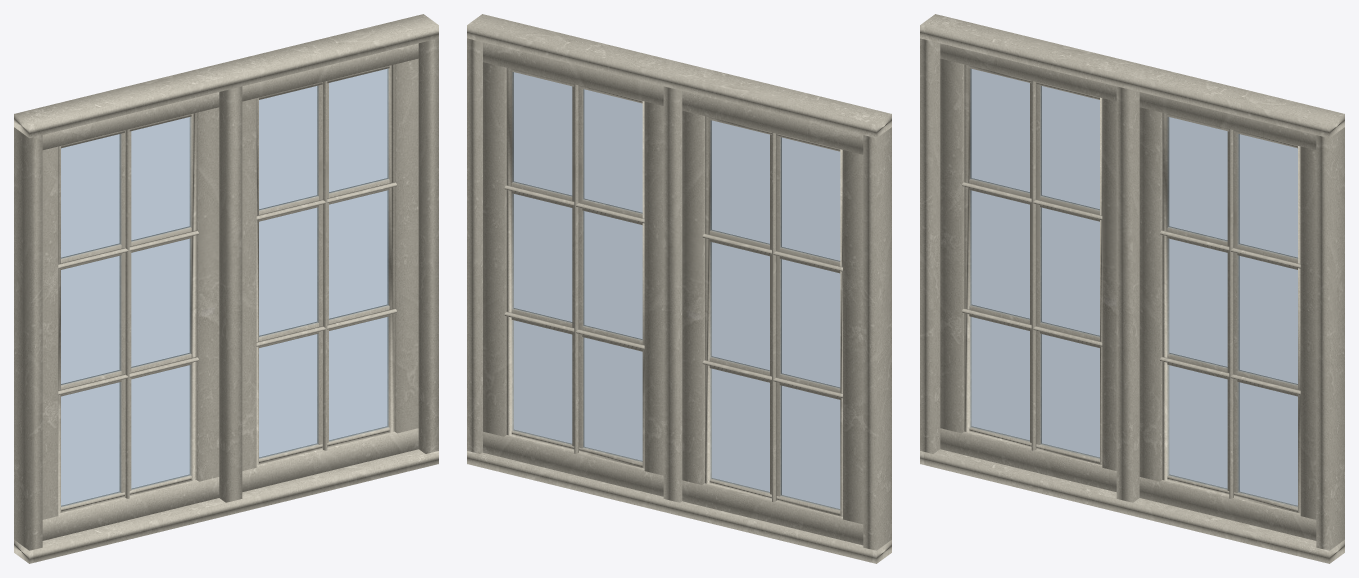
The model's file is 639a4afa-9eb4-4591-928b-d76af2555d5f.glb.
3 renders of one model, left to right at view 1: azimuth 30°, elevation 25°; view 2: azimuth 150°, elevation 25°; view 3: azimuth 330°, elevation 25°, orthographic.
Parts seen in each view (by area): view 1: AlabasterWindow; view 2: AlabasterWindow; view 3: AlabasterWindow.
Boxes of the visible parts, x1,y1,x2,y2 form: AlabasterWindow: (14,14,438,563); AlabasterWindow: (467,14,891,563); AlabasterWindow: (920,14,1344,563).
Size of what is drawn, in the model's own units: 1.56 by 1.59 by 0.1008.
Materials: 2 (2 with a texture image).
